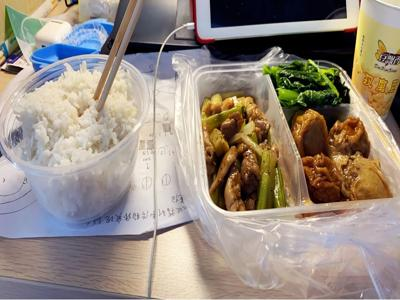rice: (7, 65, 145, 172)
ymc: (266, 62, 349, 111)
